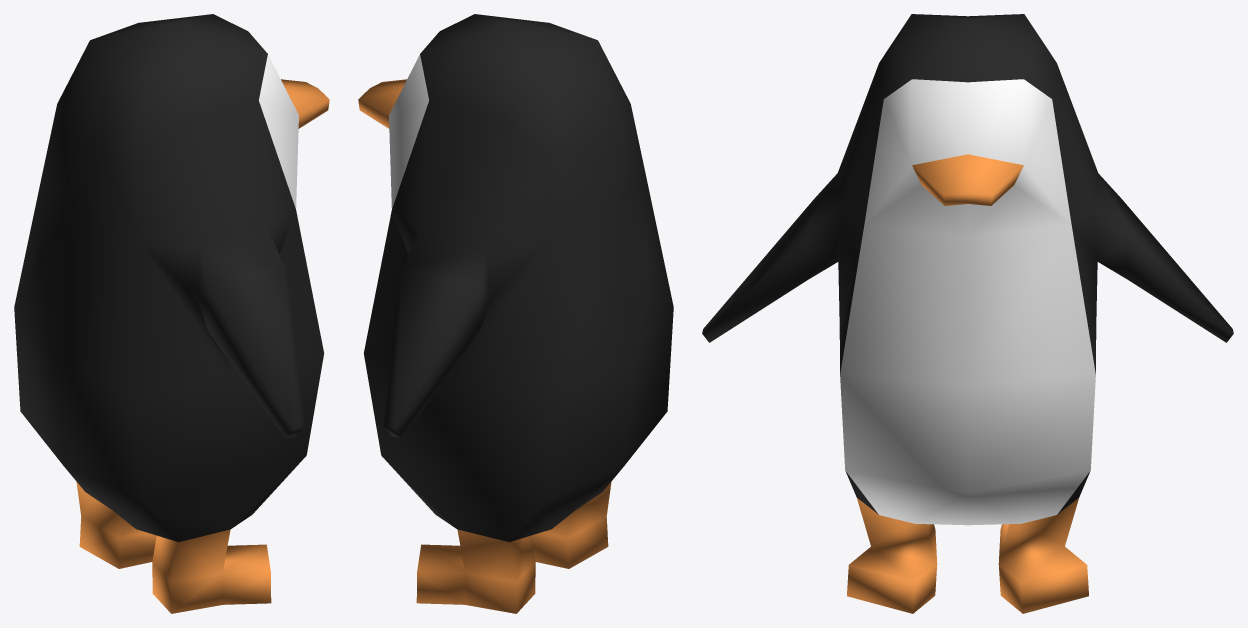
The model's file is WhitePenguin.gltf.
The picture shows the model from 3 angles, left to right: view 1: azimuth 30°, elevation 25°; view 2: azimuth 150°, elevation 25°; view 3: azimuth 270°, elevation 25°; orthographic projection. The views are drawn at different scales.
Parts seen in each view (by area): view 1: Goop; view 2: Goop; view 3: Goop.
Part boxes in pixels (bbox=[...]): Goop: bbox=[14, 14, 329, 613]; Goop: bbox=[358, 14, 673, 613]; Goop: bbox=[702, 14, 1233, 613].
Bounding box in the file's own units: 0.3667 × 0.7273 × 0.6227.
Materials: 1 (1 with a texture image).
